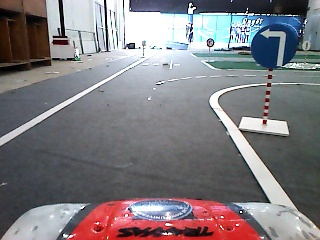turn_left: (250, 24, 298, 66)
